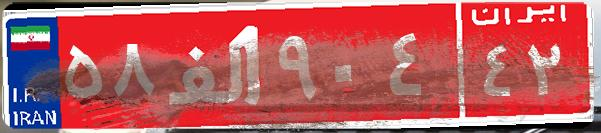0: (330, 28, 385, 110)
2: (525, 38, 570, 115)
4: (385, 28, 445, 110), (475, 38, 525, 113)
5: (57, 26, 110, 107)
8: (110, 28, 158, 105)
9: (273, 28, 330, 110)
الف: (158, 15, 273, 115)
